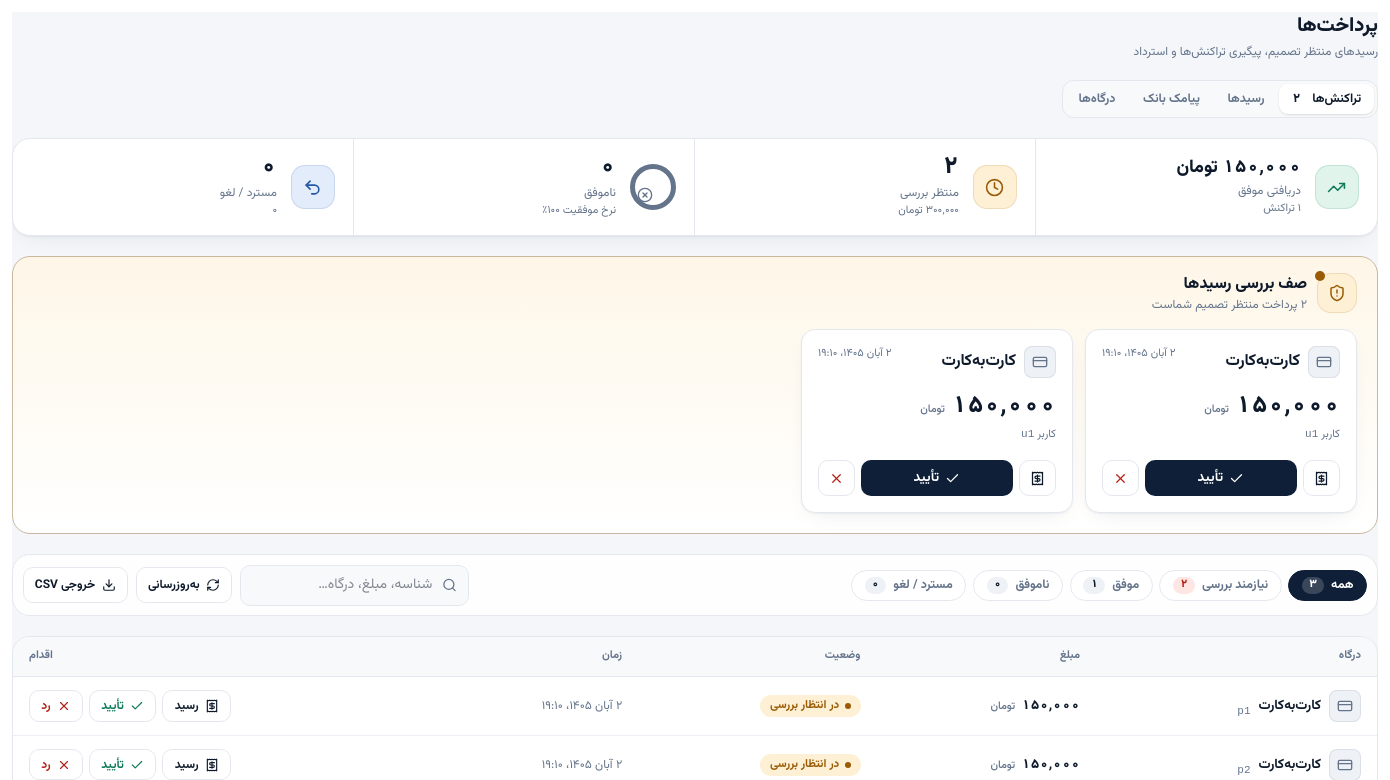
Test case: payments hub › shows the fast receipt review on its own tab, and the way back drops the query
Click the radio button labelled "رسیدها" at (1246, 99), box 1215,84 -> 1277,114
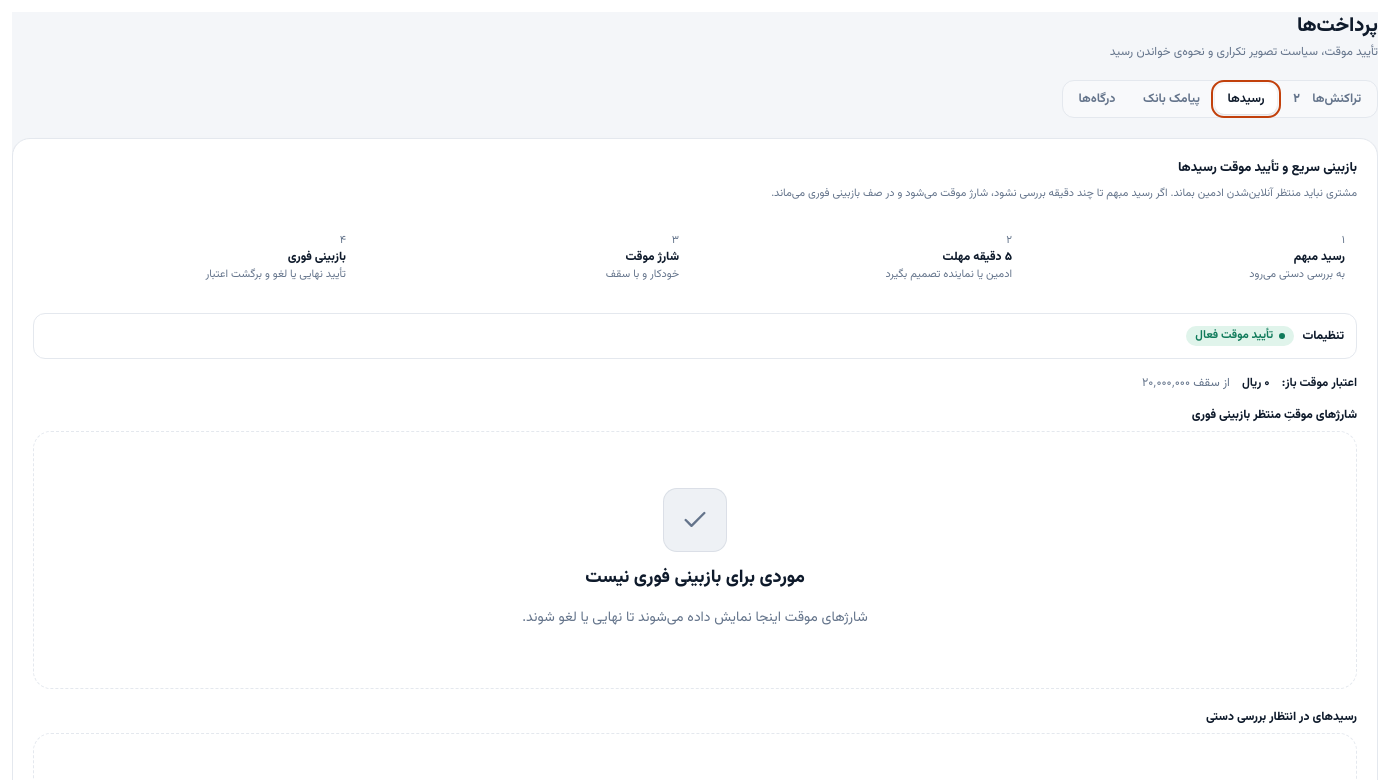
Now the heading "بازبینی سریع و تأیید موقت رسیدها" is shown, box 1178,158 -> 1357,178
Click the radio button labelled "تراکنش‌ها ۲" at (1327, 99), box 1279,84 -> 1374,114
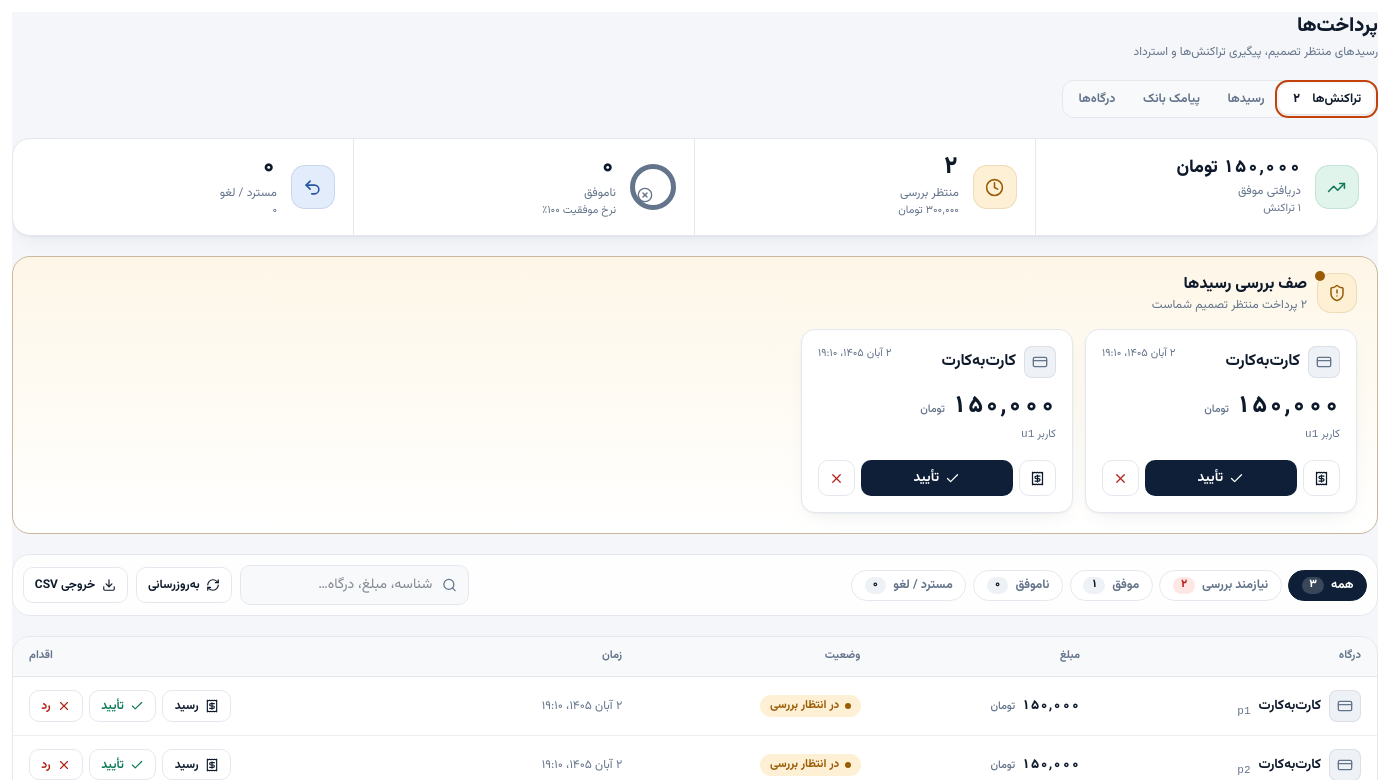
Now the text "دریافتی موفق" is shown, box 1238,182 -> 1301,200
